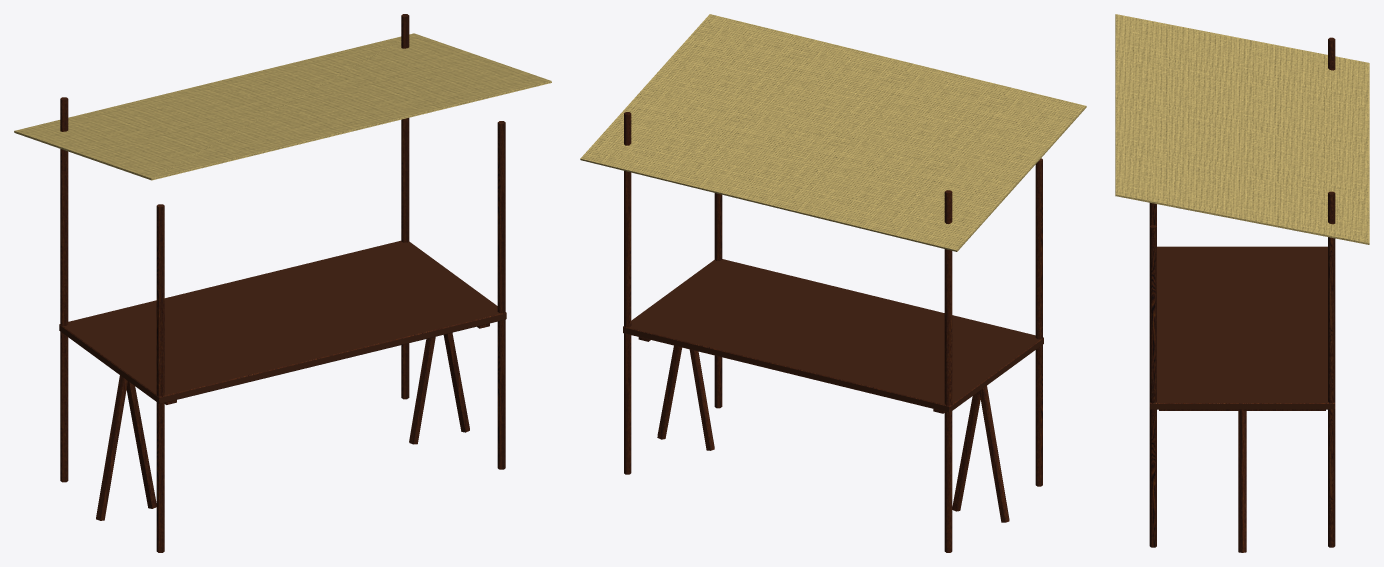
File: market_stall_table.glb
The picture shows the model from 3 angles, left to right: view 1: azimuth 30°, elevation 25°; view 2: azimuth 150°, elevation 25°; view 3: azimuth 270°, elevation 25°; orthographic projection. The views are drawn at different scales.
Parts seen in each view (by area): view 1: market_stall_table; view 2: market_stall_table; view 3: market_stall_table.
Boxes of the visible parts, bbox=[...] form: market_stall_table: bbox=[14, 14, 551, 552]; market_stall_table: bbox=[580, 14, 1086, 552]; market_stall_table: bbox=[1115, 14, 1369, 552].
Size of the model in its own units: 2.3 by 2.17 by 1.37.
2 materials, 2 textured.
